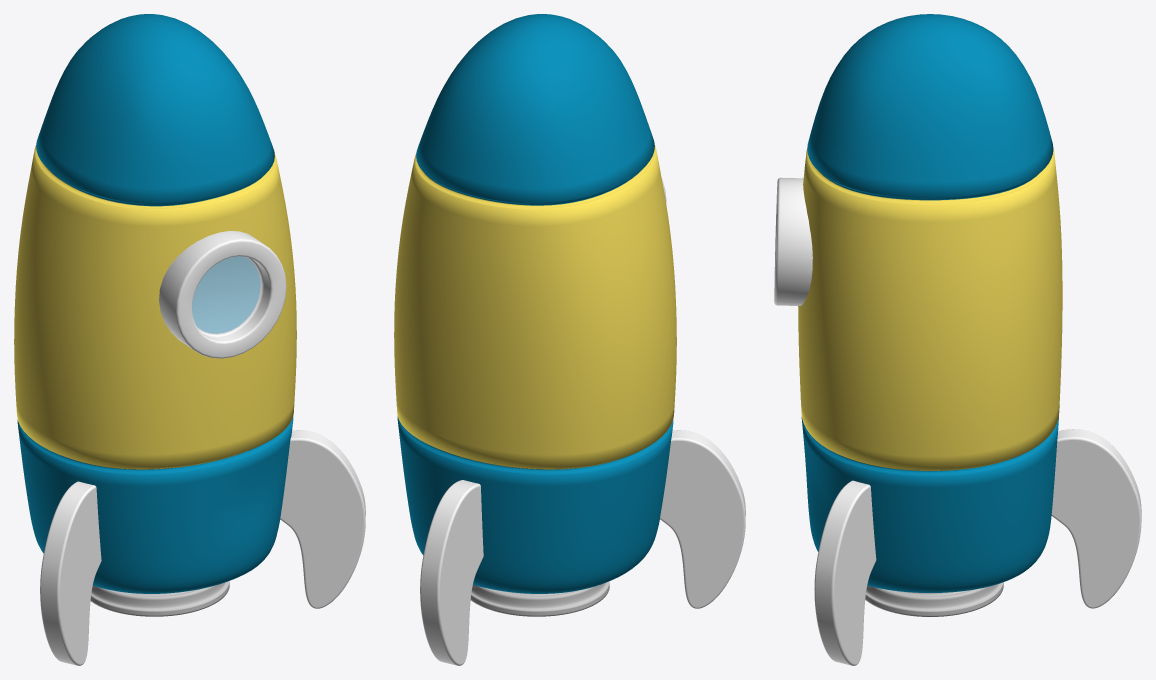
The model's file is durocket.gltf.
3 renders of one model, left to right at view 1: azimuth 30°, elevation 25°; view 2: azimuth 150°, elevation 25°; view 3: azimuth 270°, elevation 25°, orthographic.
Visible parts, largest first — view 1: Cube, Cylinder, BezierCircle.002, BezierCircle; view 2: Cube, BezierCircle, BezierCircle.001; view 3: Cube, BezierCircle.001, BezierCircle.002, Cylinder.
Boxes of the visible parts, left/top/right/bottom form: Cube: left=14, top=14, right=296, bottom=616; Cylinder: left=159, top=231, right=286, bottom=358; BezierCircle.002: left=280, top=430, right=365, bottom=608; BezierCircle: left=40, top=481, right=101, bottom=665; Cube: left=394, top=14, right=676, bottom=616; BezierCircle: left=660, top=430, right=745, bottom=608; BezierCircle.001: left=420, top=480, right=483, bottom=665; Cube: left=798, top=14, right=1062, bottom=616; BezierCircle.001: left=1051, top=429, right=1141, bottom=608; BezierCircle.002: left=814, top=480, right=876, bottom=665; Cylinder: left=774, top=177, right=812, bottom=305.
Size of the model in its own units: 136 by 234 by 133.
